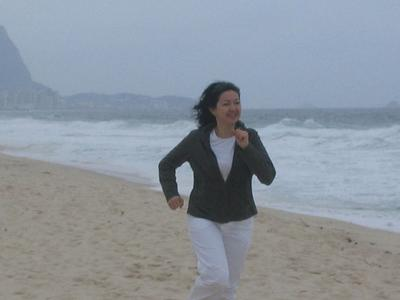person: (158, 80, 278, 299)
